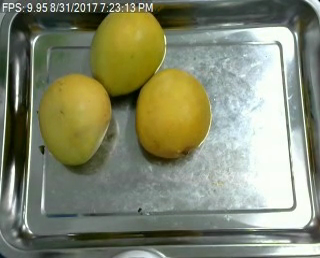Mango: (35, 72, 112, 167), (88, 5, 167, 96), (134, 68, 213, 156)
